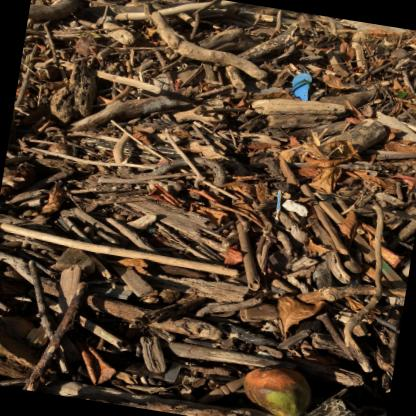Plastic: (291, 73, 311, 100), (274, 191, 281, 224)
Waste: (282, 199, 307, 216)
